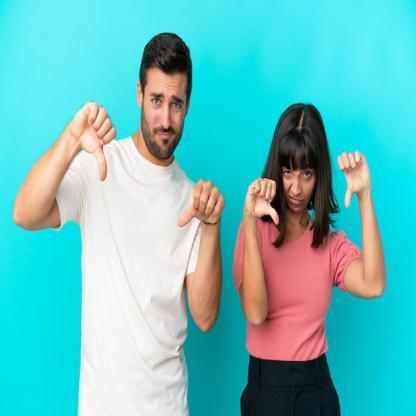thumb_down: (68, 96, 118, 184), (176, 173, 226, 235), (336, 148, 373, 210), (245, 174, 280, 226)
